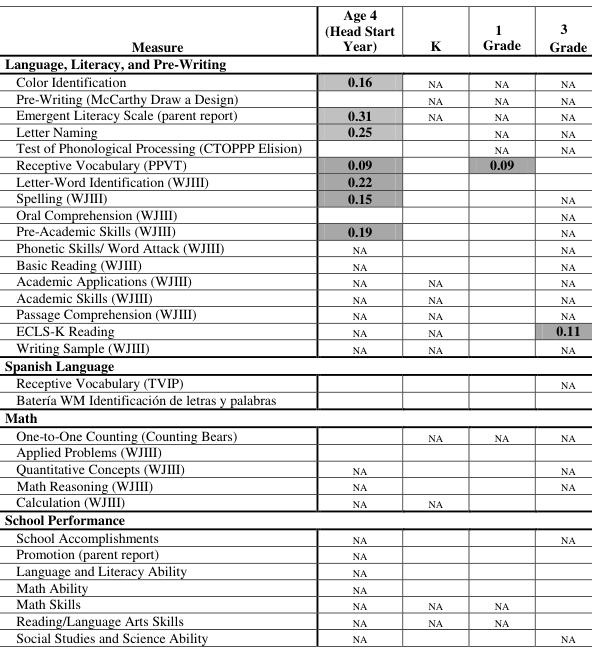table: (3, 4, 586, 645)
table column: (3, 4, 312, 645), (312, 4, 410, 645), (462, 4, 534, 645), (410, 4, 462, 645), (534, 4, 586, 645)
table column header: (3, 4, 586, 54)
table projected row header: (3, 407, 586, 426), (3, 509, 586, 528), (3, 54, 586, 72), (3, 355, 586, 373), (3, 390, 586, 407), (3, 442, 586, 459)
table row: (3, 4, 586, 54), (3, 407, 586, 426), (3, 509, 586, 528), (3, 54, 586, 72), (3, 355, 586, 373), (3, 627, 586, 645), (3, 72, 586, 89), (3, 105, 586, 122), (3, 122, 586, 139), (3, 155, 586, 172), (3, 172, 586, 189), (3, 221, 586, 238), (3, 238, 586, 255), (3, 271, 586, 288), (3, 304, 586, 321), (3, 321, 586, 338), (3, 338, 586, 355), (3, 373, 586, 390), (3, 390, 586, 407), (3, 442, 586, 459), (3, 475, 586, 492), (3, 492, 586, 509), (3, 544, 586, 561), (3, 561, 586, 578), (3, 594, 586, 611), (3, 89, 586, 105), (3, 139, 586, 155), (3, 189, 586, 205), (3, 205, 586, 221), (3, 255, 586, 271), (3, 288, 586, 304), (3, 426, 586, 442), (3, 459, 586, 475), (3, 528, 586, 544), (3, 578, 586, 594), (3, 611, 586, 627)
